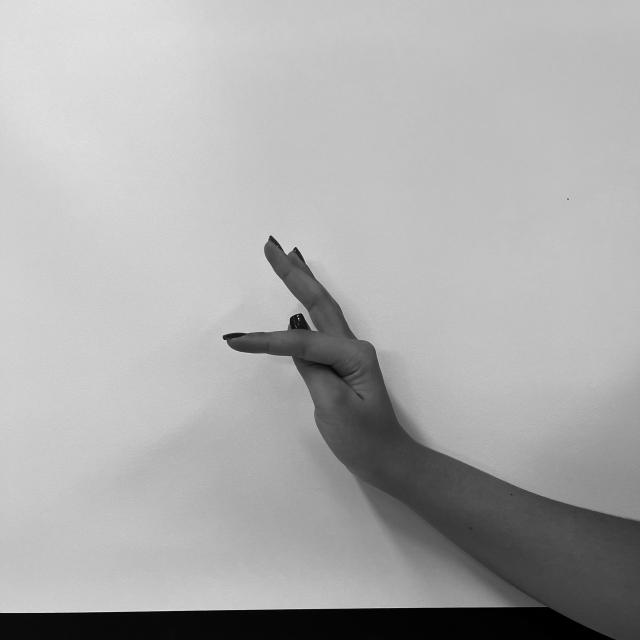Letra T: (217, 230, 402, 461)
